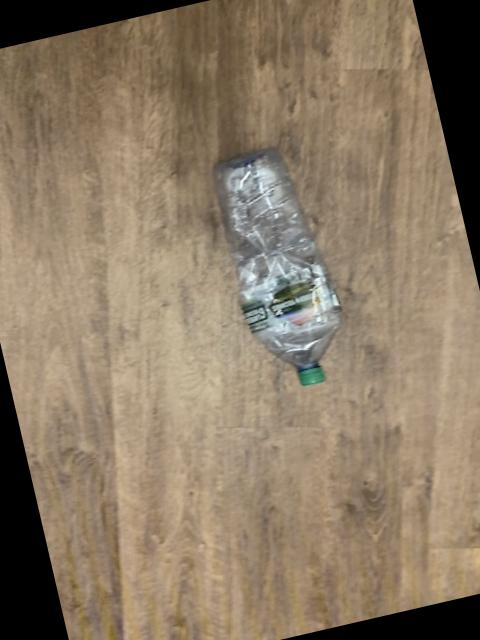plastic: (216, 149, 340, 385)
